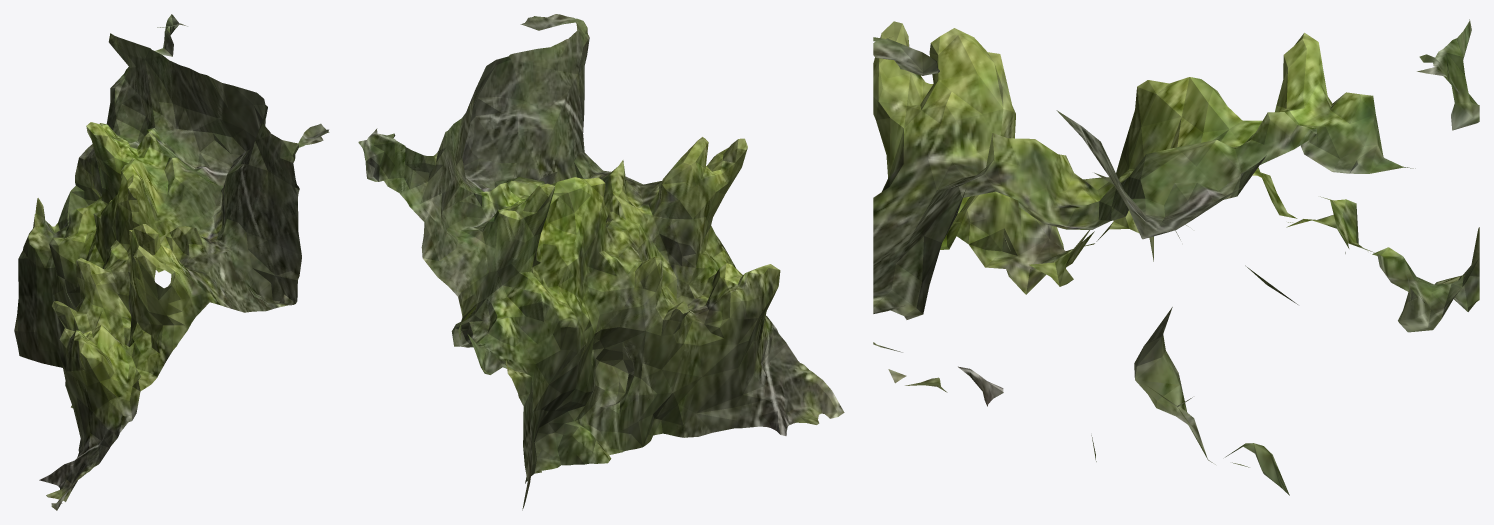
3 renders of one model, left to right at view 1: azimuth 30°, elevation 25°; view 2: azimuth 150°, elevation 25°; view 3: azimuth 270°, elevation 25°, orthographic. The views are drawn at different scales.
Size of the model in its own units: 2.86 by 2.95 by 2.95.
Materials: 5 (5 with a texture image).
